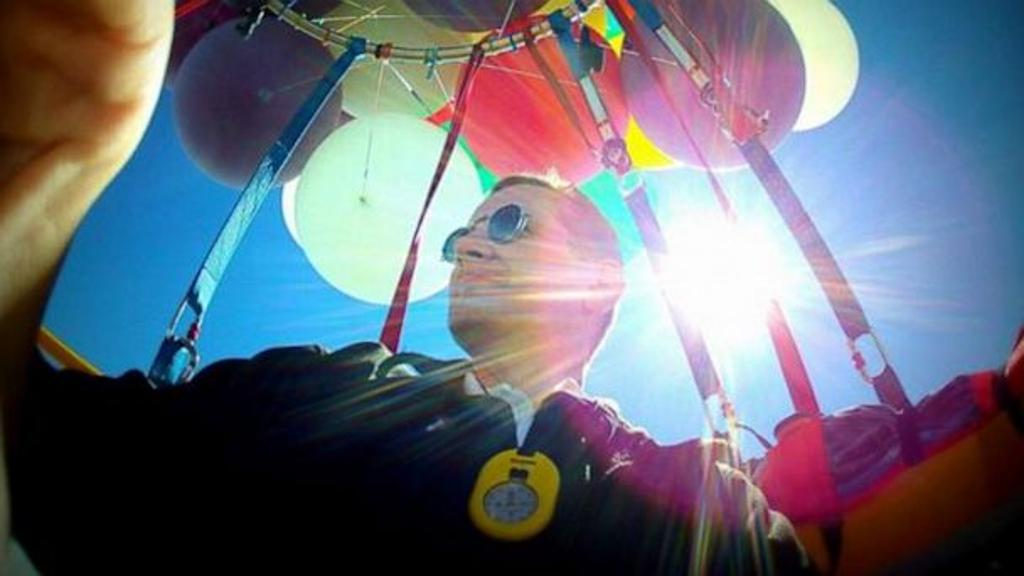face: (452, 184, 588, 328)
